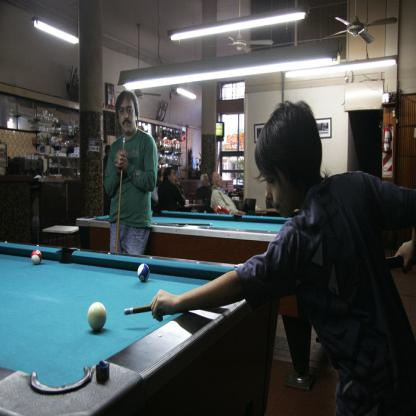Ball: (87, 301, 107, 330), (137, 264, 150, 283), (32, 249, 42, 267)
